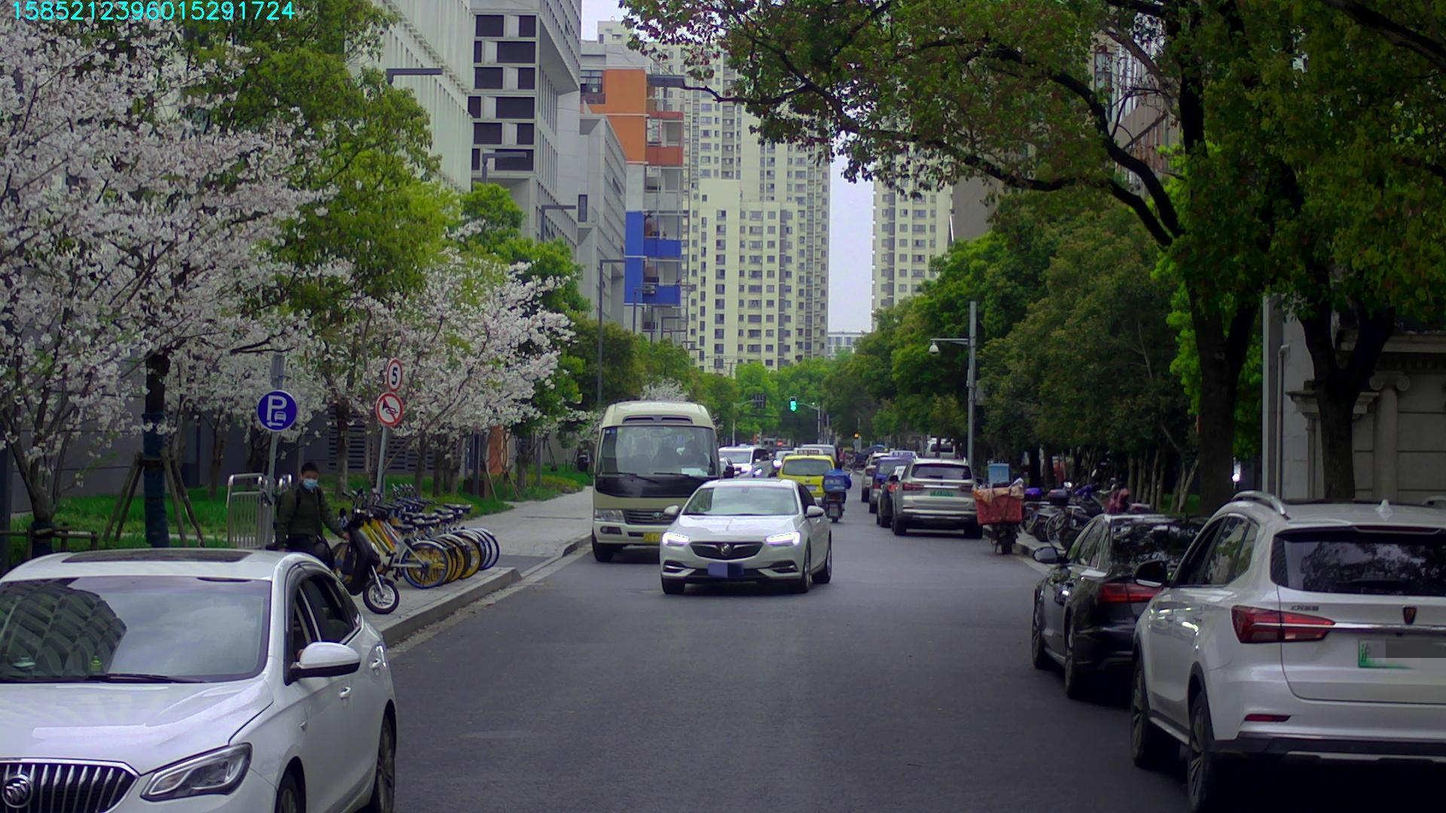green: (789, 396, 795, 411)
